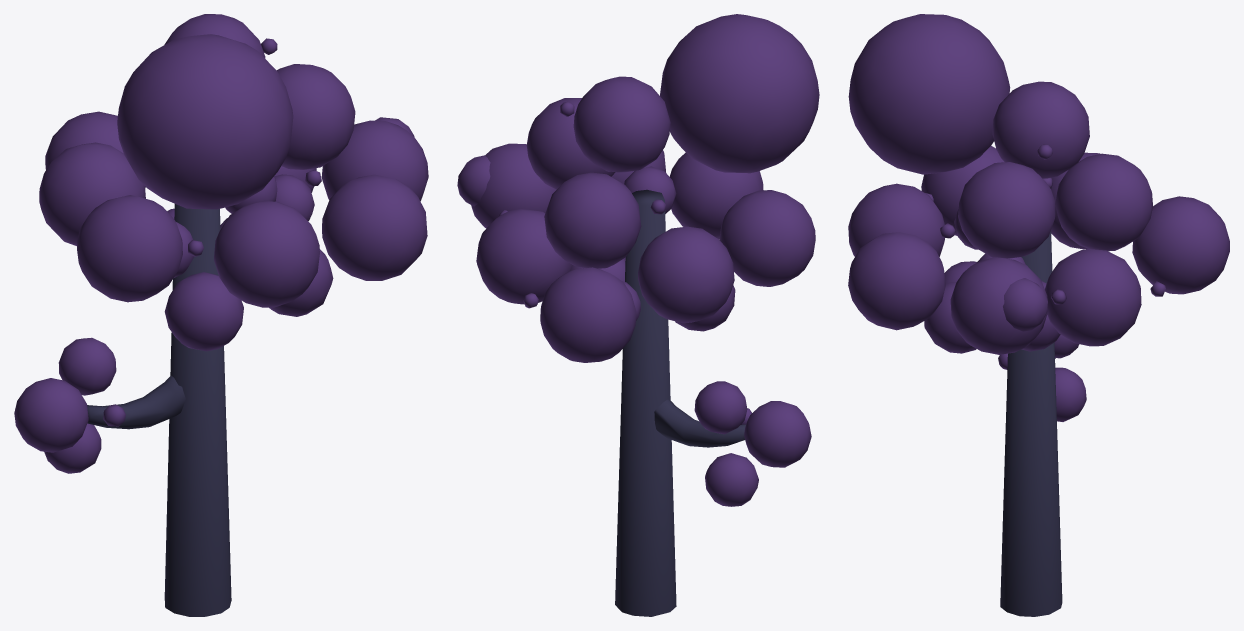
File: sphere_tree_2.glb
3 views of the same model, side by side, from view 1: azimuth 30°, elevation 25°; view 2: azimuth 150°, elevation 25°; view 3: azimuth 270°, elevation 25° (orthographic). The views are drawn at different scales.
Parts seen in each view (by area): view 1: Circle_Tree_2.002; view 2: Circle_Tree_2.002; view 3: Circle_Tree_2.002.
Boxes of the visible parts, x1,y1,x2,y2 form: Circle_Tree_2.002: [14, 14, 428, 616]; Circle_Tree_2.002: [457, 14, 819, 616]; Circle_Tree_2.002: [848, 14, 1229, 616].
Bounding box in the file's own units: 12.98 × 19.65 × 12.1.
